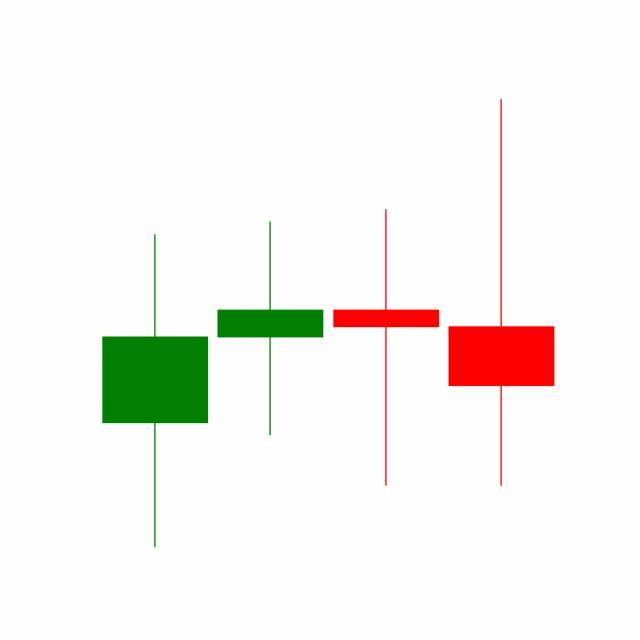Spinning Top: (329, 207, 445, 490)
